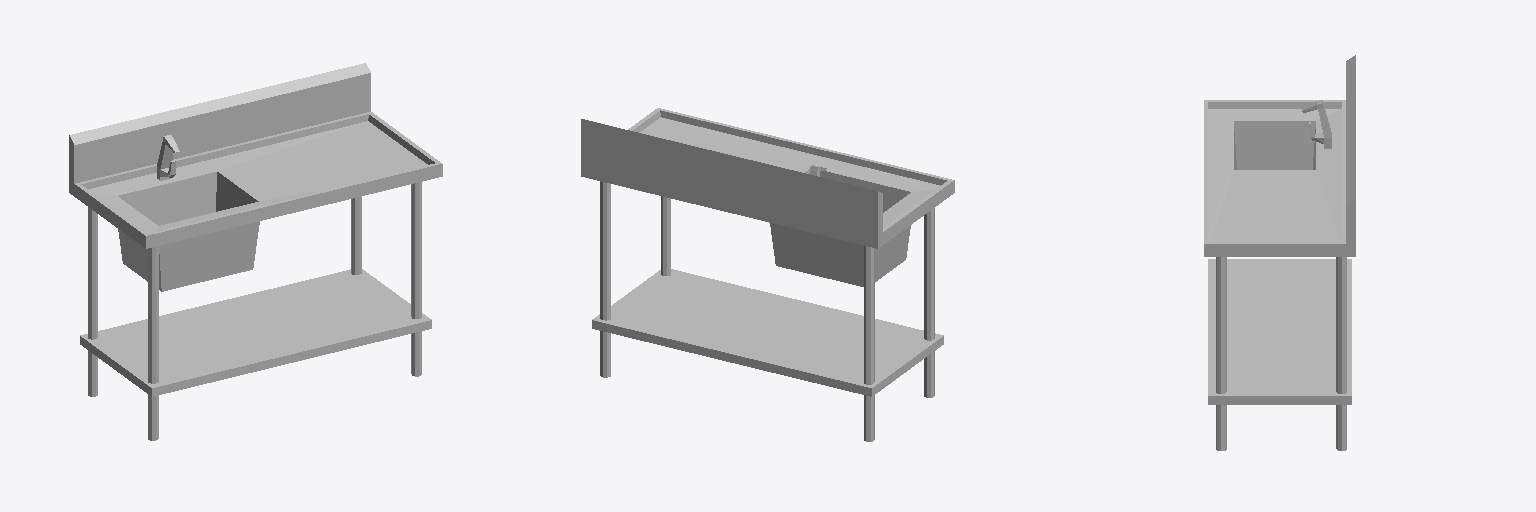
File: Kitchen_prep_station.obj
The picture shows the model from 3 angles: view 1: azimuth 30°, elevation 25°; view 2: azimuth 150°, elevation 25°; view 3: azimuth 270°, elevation 25°; orthographic projection.
Parts seen in each view (by area): view 1: Kitchen_prep_station:pCylinder5; view 2: Kitchen_prep_station:pCylinder5; view 3: Kitchen_prep_station:pCylinder5.
Boxes of the visible parts, box(x1,y1,x2,y2) form: Kitchen_prep_station:pCylinder5: box(69, 63, 442, 440); Kitchen_prep_station:pCylinder5: box(581, 108, 954, 441); Kitchen_prep_station:pCylinder5: box(1204, 55, 1355, 450).
Bounding box in the file's own units: 38.55 × 32.04 × 17.21.